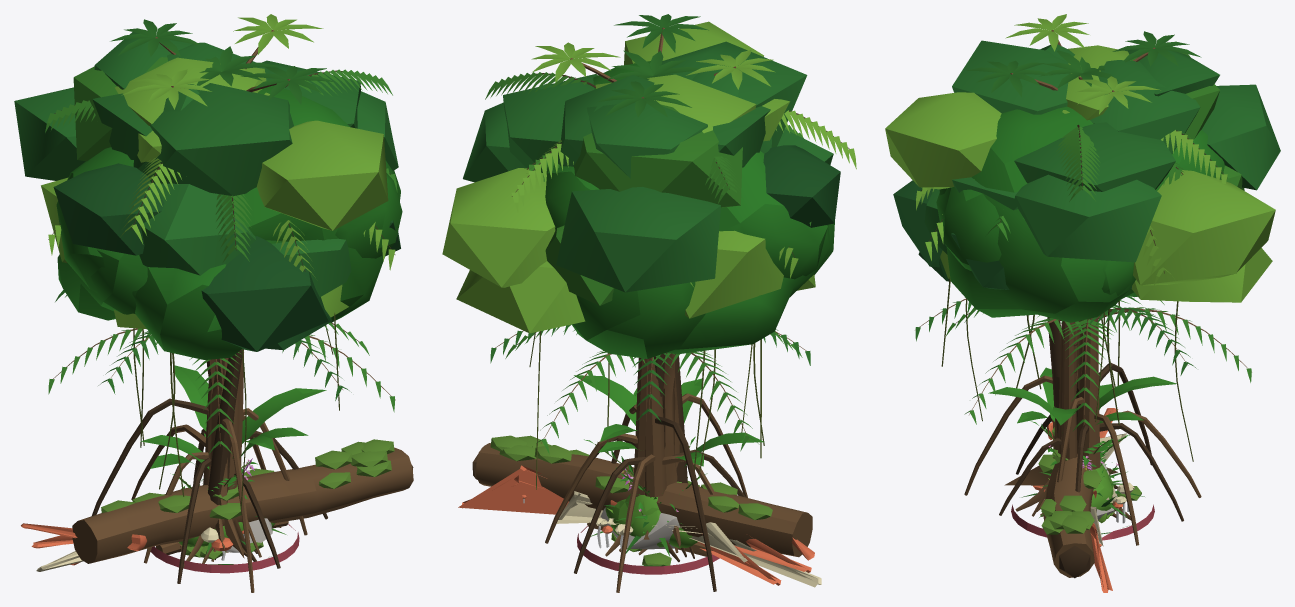
File: vegetacion.glb
The picture shows the model from 3 angles, left to right: view 1: azimuth 30°, elevation 25°; view 2: azimuth 150°, elevation 25°; view 3: azimuth 270°, elevation 25°; orthographic projection. The views are drawn at different scales.
Visible parts, largest first — view 1: arbol_orilla_b, arbol_orilla_a, tronco, arbol_a, cecropia, arbol_b, raices, aguaje, arbol_orilla_c, heliconia_pl, helecho_arb, victoria_b; view 2: arbol_orilla_a, arbol_orilla_b, tronco, arbol_a, raices, arbol_b, cecropia, aguaje, helecho_arb, arbol_orilla_c, heliconia_pl, musgo_b (+2 smaller); view 3: arbol_orilla_a, arbol_orilla_b, arbol_a, cecropia, tronco, arbol_b, raices, helecho_arb, aguaje, arbol_orilla_c, heliconia_pl, victoria_b (+1 smaller).
Part boxes in pixels (<box>): arbol_orilla_b: <box>53,32,398,563</box>; arbol_orilla_a: <box>14,42,388,559</box>; tronco: <box>21,439,413,571</box>; arbol_a: <box>56,85,400,558</box>; cecropia: <box>110,14,335,561</box>; arbol_b: <box>57,173,402,550</box>; raices: <box>92,380,327,592</box>; aguaje: <box>45,69,397,552</box>; arbol_orilla_c: <box>113,92,400,568</box>; heliconia_pl: <box>141,365,326,469</box>; helecho_arb: <box>48,290,395,454</box>; victoria_b: <box>150,524,299,573</box>; arbol_orilla_a: <box>442,21,833,562</box>; arbol_orilla_b: <box>456,41,840,557</box>; tronco: <box>458,435,821,587</box>; arbol_a: <box>527,61,834,539</box>; raices: <box>545,357,747,592</box>; arbol_b: <box>545,166,829,547</box>; cecropia: <box>531,14,775,552</box>; aguaje: <box>485,72,856,286</box>; helecho_arb: <box>490,324,810,454</box>; arbol_orilla_c: <box>545,225,815,558</box>; heliconia_pl: <box>574,375,764,467</box>; musgo_b: <box>605,494,697,548</box>; arbol_orilla_a: <box>885,44,1280,520</box>; arbol_orilla_b: <box>893,40,1272,517</box>; arbol_a: <box>939,106,1167,488</box>; cecropia: <box>965,14,1201,516</box>; tronco: <box>1038,388,1126,592</box>; arbol_b: <box>936,130,1224,474</box>; raices: <box>964,317,1201,545</box>; helecho_arb: <box>915,296,1251,453</box>; aguaje: <box>916,124,1227,454</box>; arbol_orilla_c: <box>918,110,1244,511</box>; heliconia_pl: <box>988,367,1176,432</box>; victoria_b: <box>1011,504,1154,540</box>.
Bounding box in the file's own units: 2.04 × 2.6 × 2.06.
